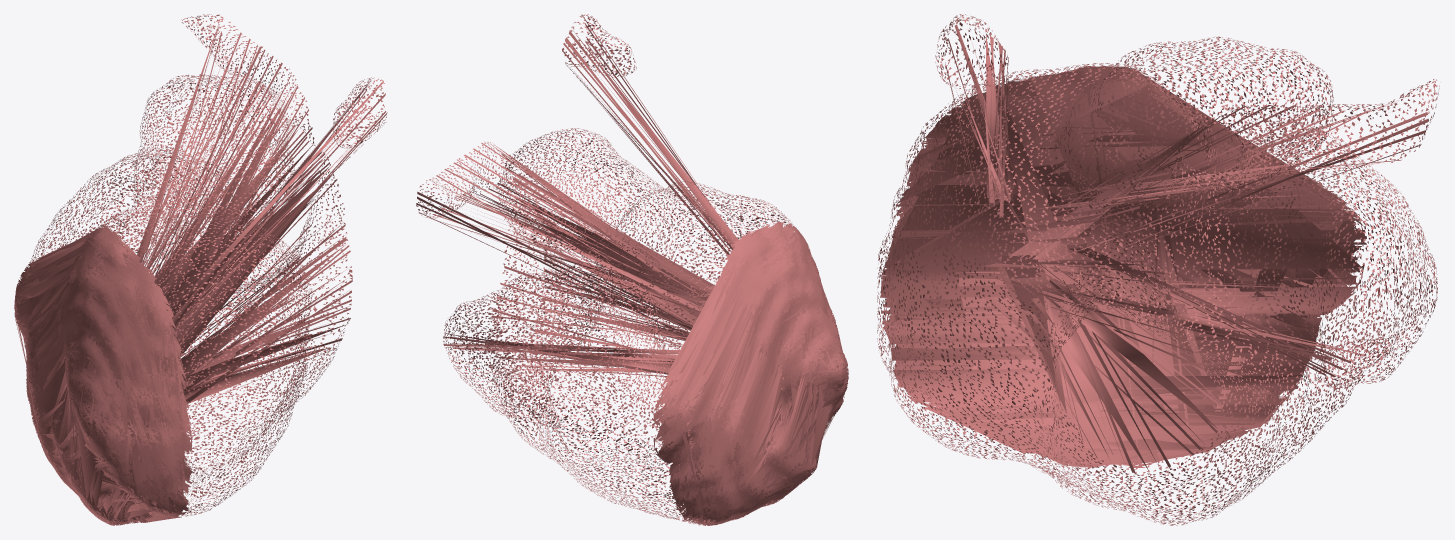
Rendered from heart.glb.
3 renders of one model, left to right at view 1: azimuth 30°, elevation 25°; view 2: azimuth 150°, elevation 25°; view 3: azimuth 270°, elevation 25°, orthographic. The views are drawn at different scales.
Bounding box in the file's own units: 97.82 × 136 × 116.
